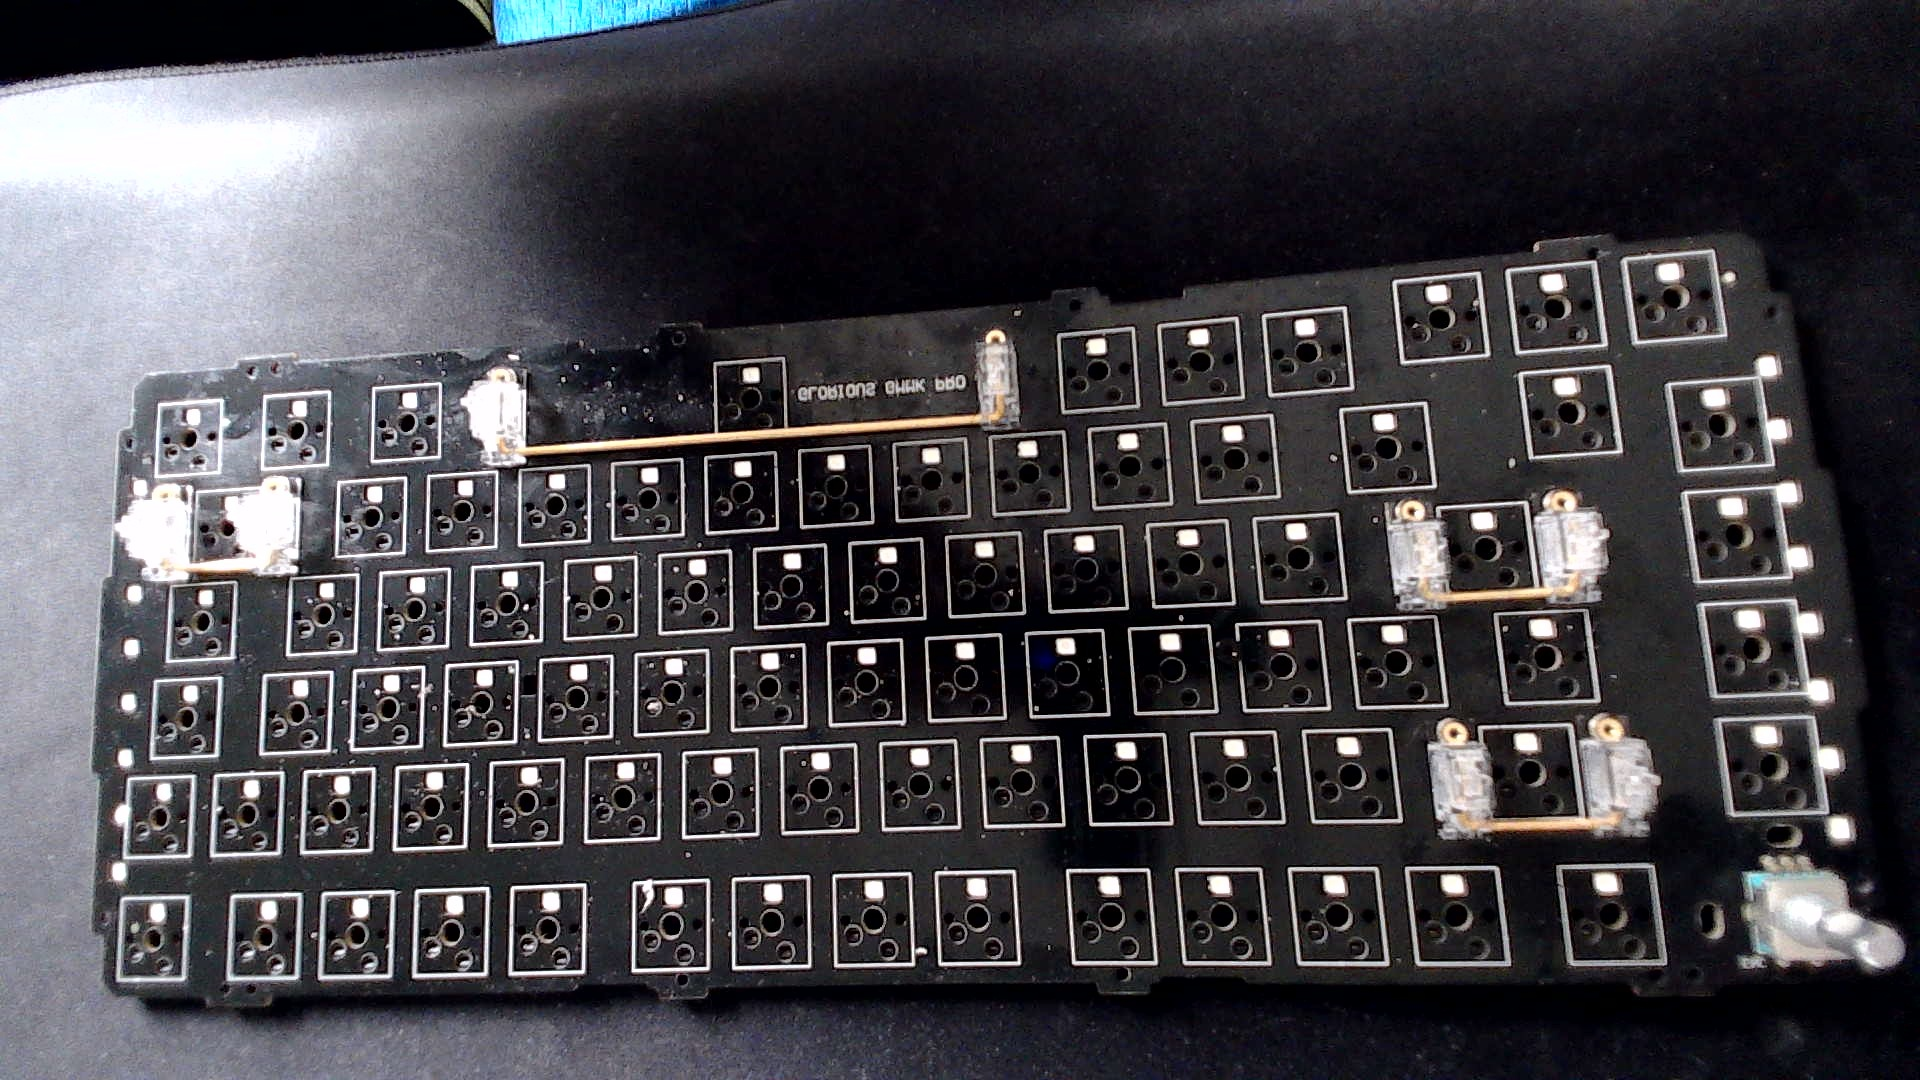pcb: (44, 193, 1896, 1044)
